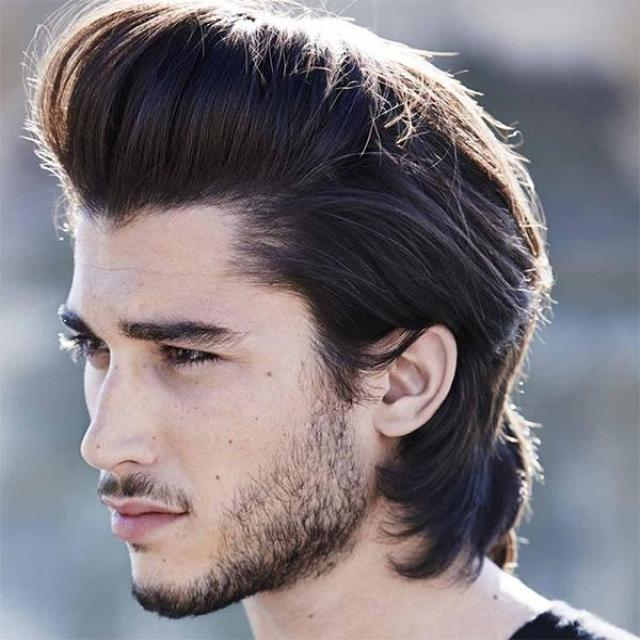Nonhelmet: (18, 0, 556, 618)
